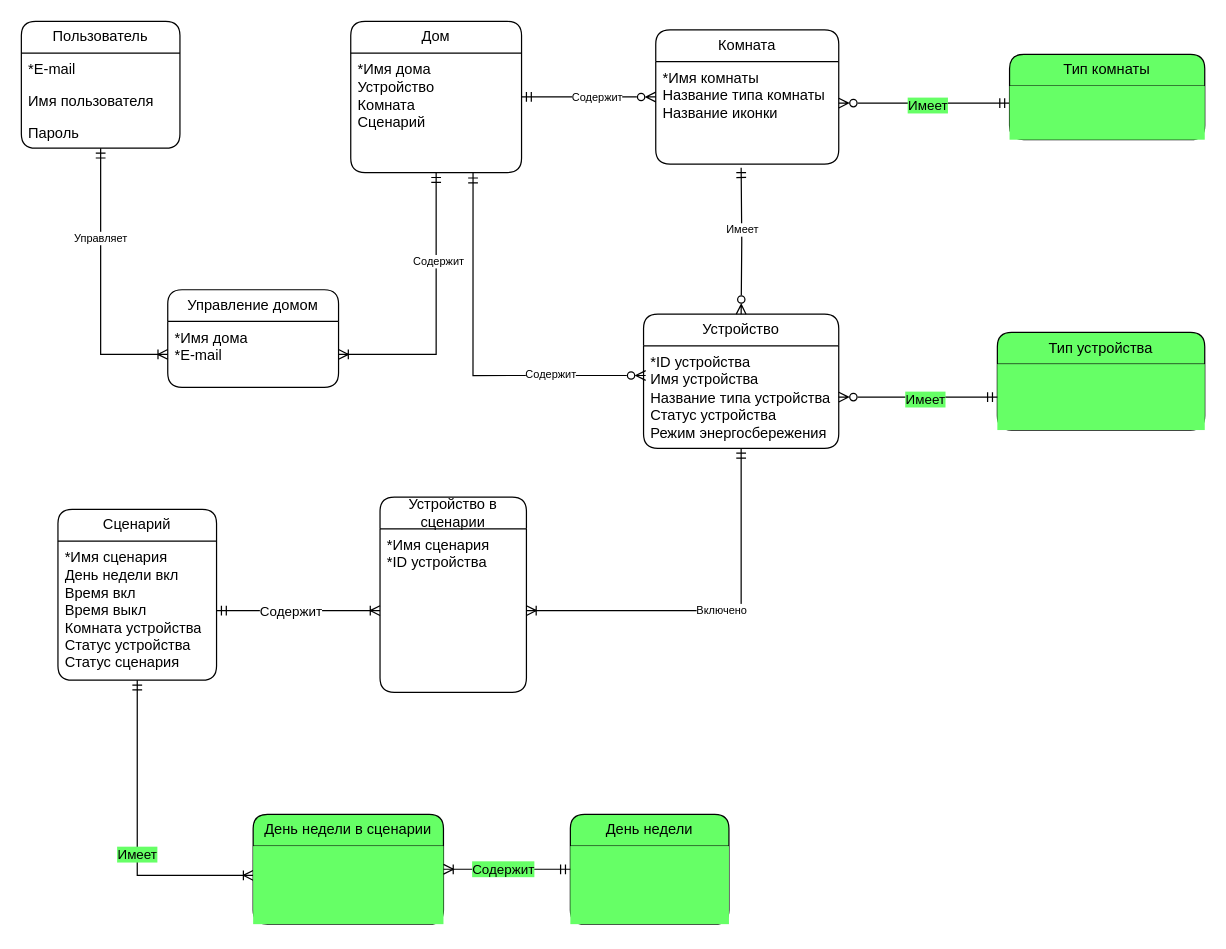
Some shapes in this 1226 by 949 pixel diagram are drawn without their labels. Here are the shapes that lost their labels. From the top down, the centre of each, then its label:
At point (1106, 112): "*Название типа комнаты".
At point (1100, 396): "*Название типа устройства".
At point (348, 884): "*Имя сценария *День недели".
At point (649, 884): "*День недели".
